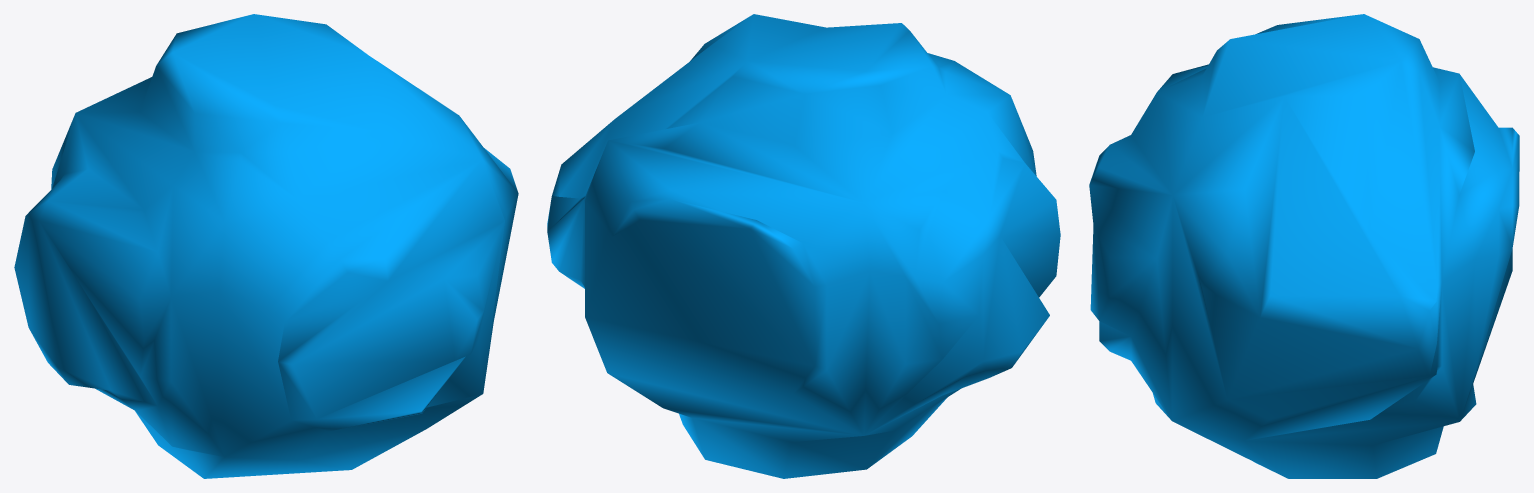
The model's file is Jelly.fbx.
3 renders of one model, left to right at view 1: azimuth 30°, elevation 25°; view 2: azimuth 150°, elevation 25°; view 3: azimuth 270°, elevation 25°, orthographic. The views are drawn at different scales.
Parts seen in each view (by area): view 1: Jelly; view 2: Jelly; view 3: Jelly.
Boxes of the visible parts, x1,y1,x2,y2 form: Jelly: [14, 14, 518, 478]; Jelly: [547, 14, 1060, 478]; Jelly: [1089, 14, 1519, 478].
Bounding box in the file's own units: 0.7556 × 0.6818 × 0.6804.
